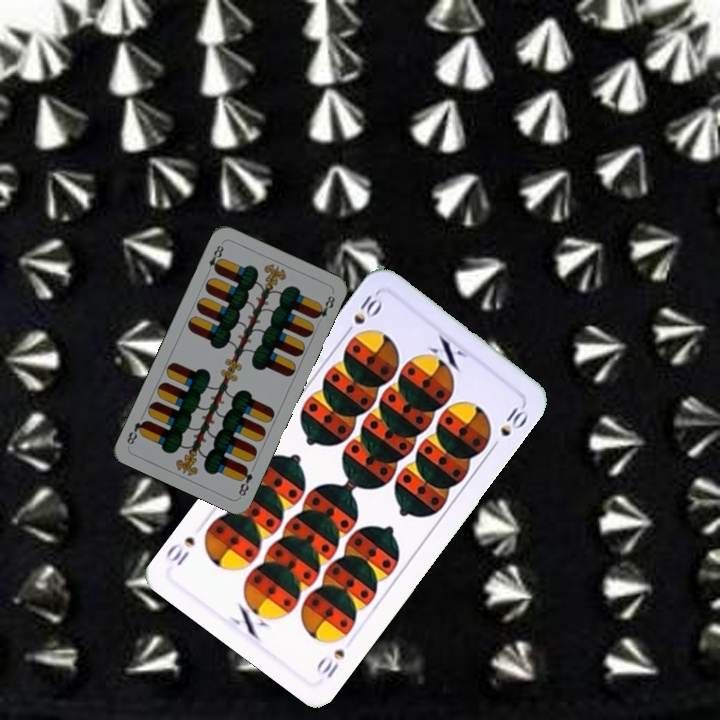E8: (203, 239, 226, 277), (234, 462, 255, 499)
S10: (339, 288, 386, 339), (312, 645, 348, 681)
